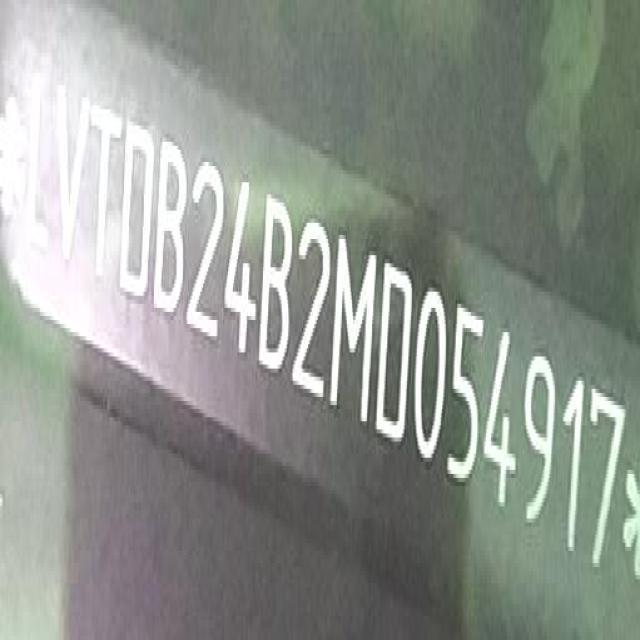0: (414, 277, 448, 471)
1: (562, 358, 586, 560)
2: (296, 197, 331, 403), (192, 150, 224, 351)
4: (482, 320, 519, 519), (226, 165, 255, 365)
5: (451, 292, 484, 491)
7: (592, 380, 626, 574)
9: (525, 340, 555, 532)
B: (260, 180, 292, 383), (154, 132, 184, 326)
D: (378, 252, 414, 449), (122, 111, 154, 308)
L: (28, 80, 52, 256)
M: (336, 220, 376, 428)
T: (96, 95, 124, 292)
V: (56, 81, 92, 272)
